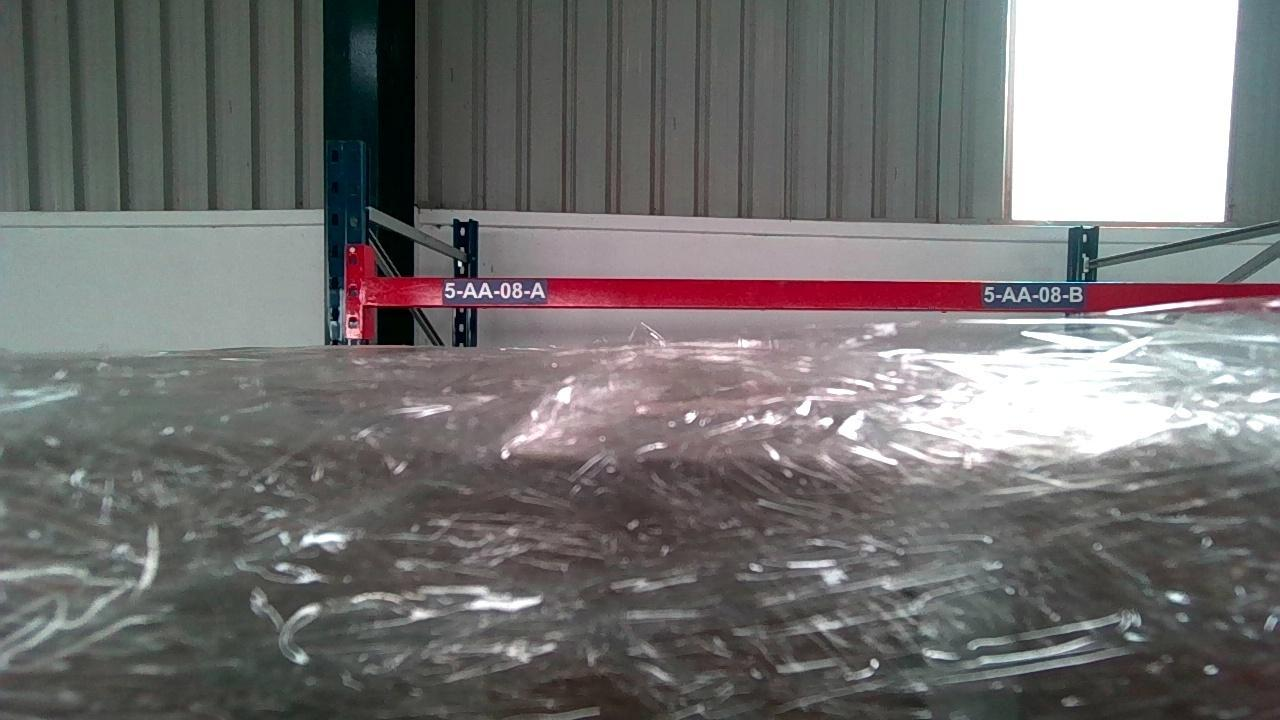h_rack: (364, 280, 1279, 311)
